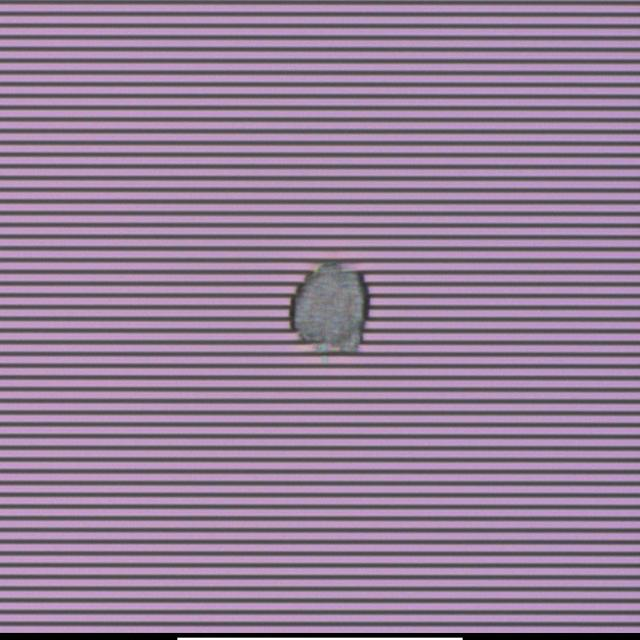03_intrusion: (280, 257, 384, 357)
